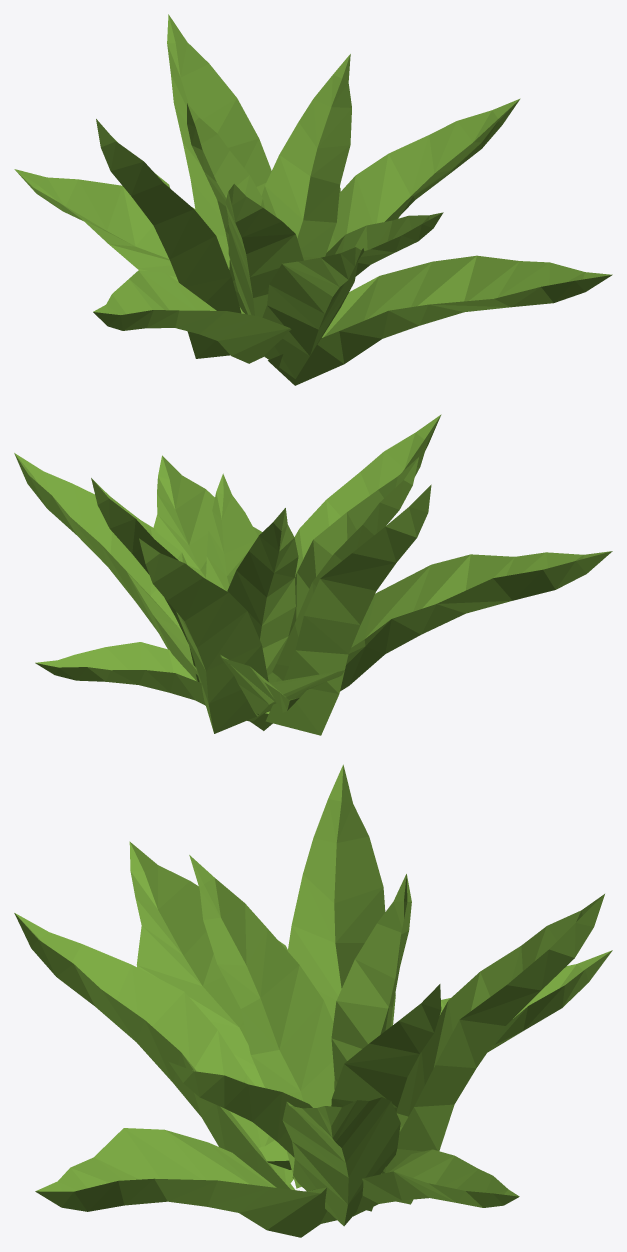
The model's file is modelDraco.gltf.
The picture shows the model from 3 angles, top to bottom: view 1: azimuth 30°, elevation 25°; view 2: azimuth 150°, elevation 25°; view 3: azimuth 270°, elevation 25°; orthographic projection. The views are drawn at different scales.
Parts seen in each view (by area): view 1: node_MeshObject-313353856-PolyPaper9; view 2: node_MeshObject-313353856-PolyPaper9; view 3: node_MeshObject-313353856-PolyPaper9.
Part boxes in pixels (x1,y1,x2,y2): node_MeshObject-313353856-PolyPaper9: (14, 14, 612, 385); node_MeshObject-313353856-PolyPaper9: (14, 414, 612, 735); node_MeshObject-313353856-PolyPaper9: (14, 764, 612, 1237).
Bounding box in the file's own units: 1.52 × 0.8566 × 1.27.
